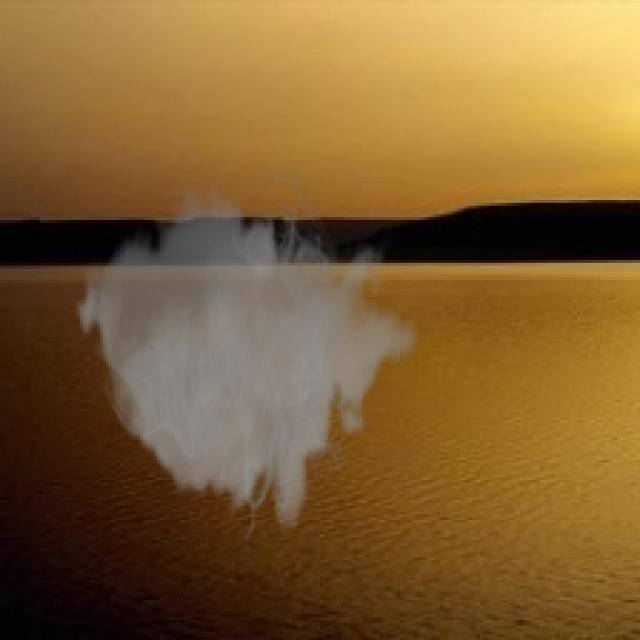Smoke: (74, 154, 420, 546)
